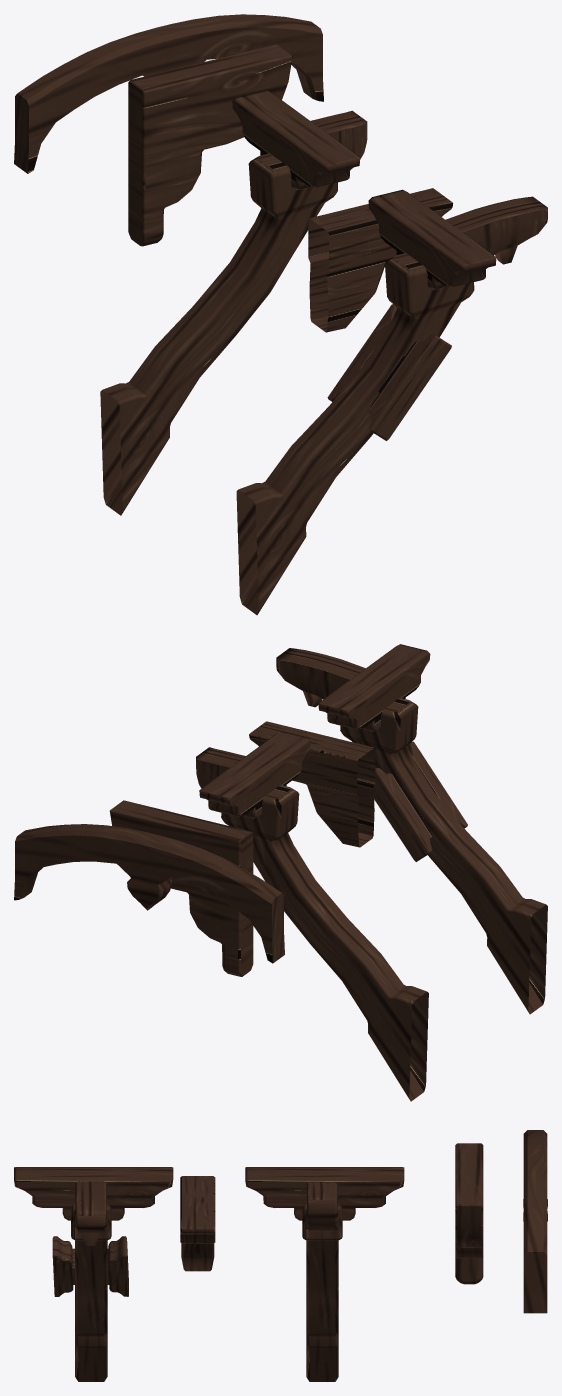
Rendered from Brackets.fbx.
3 views of the same model, one above another, from view 1: azimuth 30°, elevation 25°; view 2: azimuth 150°, elevation 25°; view 3: azimuth 270°, elevation 25° (orthographic). The views are drawn at different scales.
Visible parts, largest first — view 1: bracket_beam_wood.001, bracket_beam_wood, bracket_B, arch, bracket_C; view 2: bracket_beam_wood.001, bracket_beam_wood, arch, bracket_B, bracket_C; view 3: bracket_beam_wood.001, bracket_beam_wood, arch, bracket_B, bracket_C.
Part boxes in pixels (bbox=[...]): bracket_beam_wood.001: bbox=[236, 189, 547, 615]; bracket_beam_wood: bbox=[100, 90, 367, 515]; bracket_B: bbox=[128, 44, 292, 246]; arch: bbox=[14, 14, 323, 173]; bracket_C: bbox=[308, 188, 452, 332]; bracket_beam_wood.001: bbox=[276, 644, 547, 1014]; bracket_beam_wood: bbox=[196, 731, 428, 1101]; arch: bbox=[14, 824, 284, 963]; bracket_B: bbox=[109, 800, 253, 976]; bracket_C: bbox=[249, 721, 375, 847]; bracket_beam_wood.001: bbox=[14, 1167, 173, 1381]; bracket_beam_wood: bbox=[245, 1167, 404, 1381]; arch: bbox=[523, 1130, 547, 1313]; bracket_B: bbox=[455, 1143, 483, 1284]; bracket_C: bbox=[180, 1176, 215, 1271].
Size of the model in its own units: 209 by 207 by 342.
